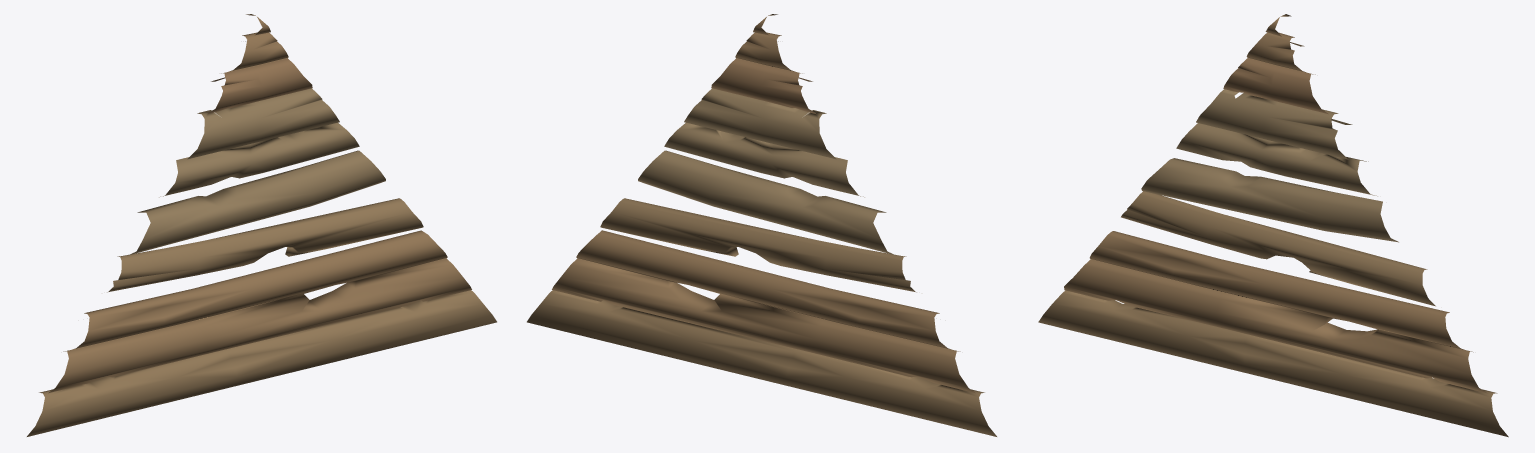
File: rpgpp_av_roof_end_01_6x5_wall_03a.gltf
3 views of the same model, side by side, from view 1: azimuth 30°, elevation 25°; view 2: azimuth 150°, elevation 25°; view 3: azimuth 330°, elevation 25° (orthographic).
Parts seen in each view (by area): view 1: rpgpp_av_roof_end_01_6x5_wall_03a; view 2: rpgpp_av_roof_end_01_6x5_wall_03a; view 3: rpgpp_av_roof_end_01_6x5_wall_03a.
Part boxes in pixels (x1=…): rpgpp_av_roof_end_01_6x5_wall_03a: x1=27, y1=14, x2=496, y2=436; rpgpp_av_roof_end_01_6x5_wall_03a: x1=527, y1=14, x2=996, y2=436; rpgpp_av_roof_end_01_6x5_wall_03a: x1=1038, y1=14, x2=1508, y2=437.
Size of the model in its own units: 0.0667 by 0.0486 by 0.00514.
1 material, 1 textured.
